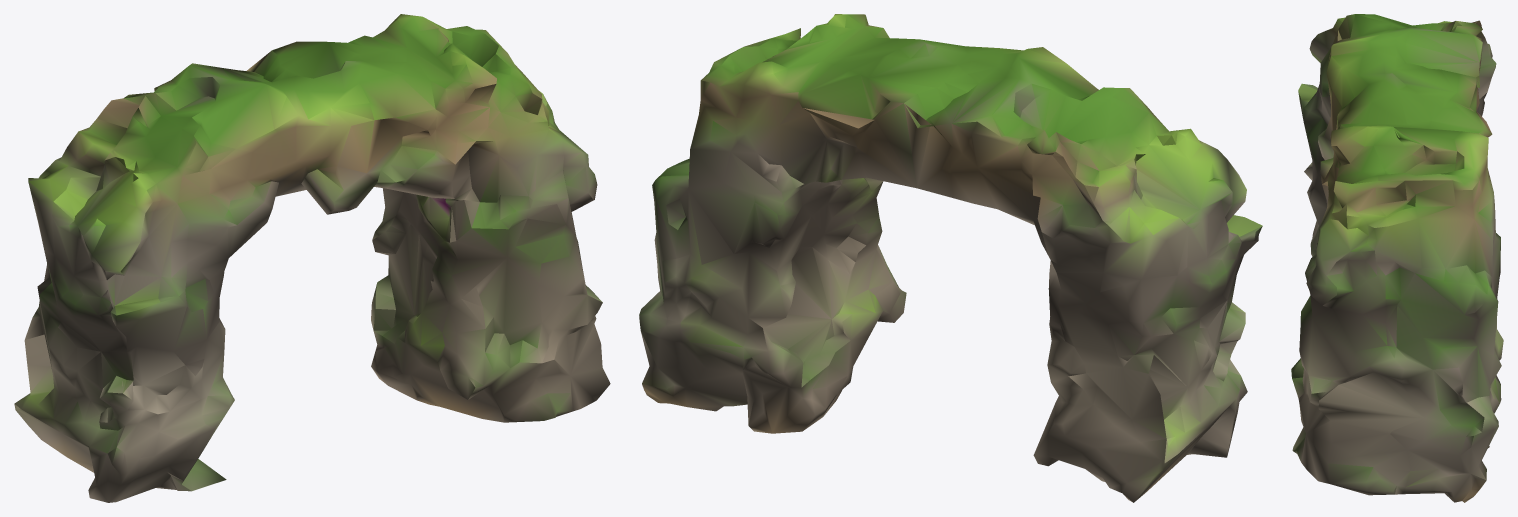
File: glade_rock_arch_lod1.glb
The picture shows the model from 3 angles, left to right: view 1: azimuth 30°, elevation 25°; view 2: azimuth 150°, elevation 25°; view 3: azimuth 270°, elevation 25°; orthographic projection. The views are drawn at different scales.
Visible parts, largest first — view 1: glade_rock_arch.001; view 2: glade_rock_arch.001; view 3: glade_rock_arch.001.
Part boxes in pixels (left/top/right/bottom): glade_rock_arch.001: left=14, top=14, right=610, bottom=502; glade_rock_arch.001: left=639, top=14, right=1262, bottom=502; glade_rock_arch.001: left=1291, top=14, right=1503, bottom=502.
Bounding box in the file's own units: 15.57 × 10.81 × 6.2.
